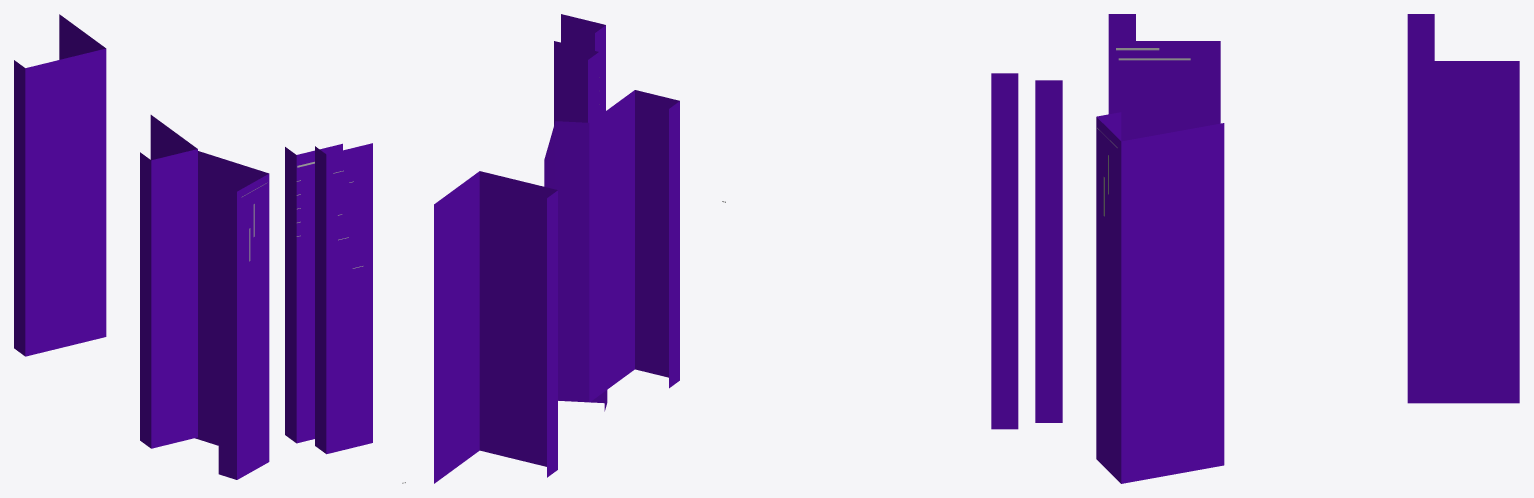
Rendered from ExpUrban.blend_FarAwayBuildings.gltf.
3 renders of one model, left to right at view 1: azimuth 30°, elevation 25°; view 2: azimuth 150°, elevation 25°; view 3: azimuth 270°, elevation 25°, orthographic. The views are drawn at different scales.
Parts seen in each view (by area): view 1: Plane.060; view 2: Plane.060; view 3: Plane.060.
Part boxes in pixels (x1,y1,x2,y2): Plane.060: [14, 14, 405, 483]; Plane.060: [434, 14, 725, 483]; Plane.060: [991, 14, 1519, 483].
Size of the model in its own units: 27.5 by 52.91 by 89.03.
